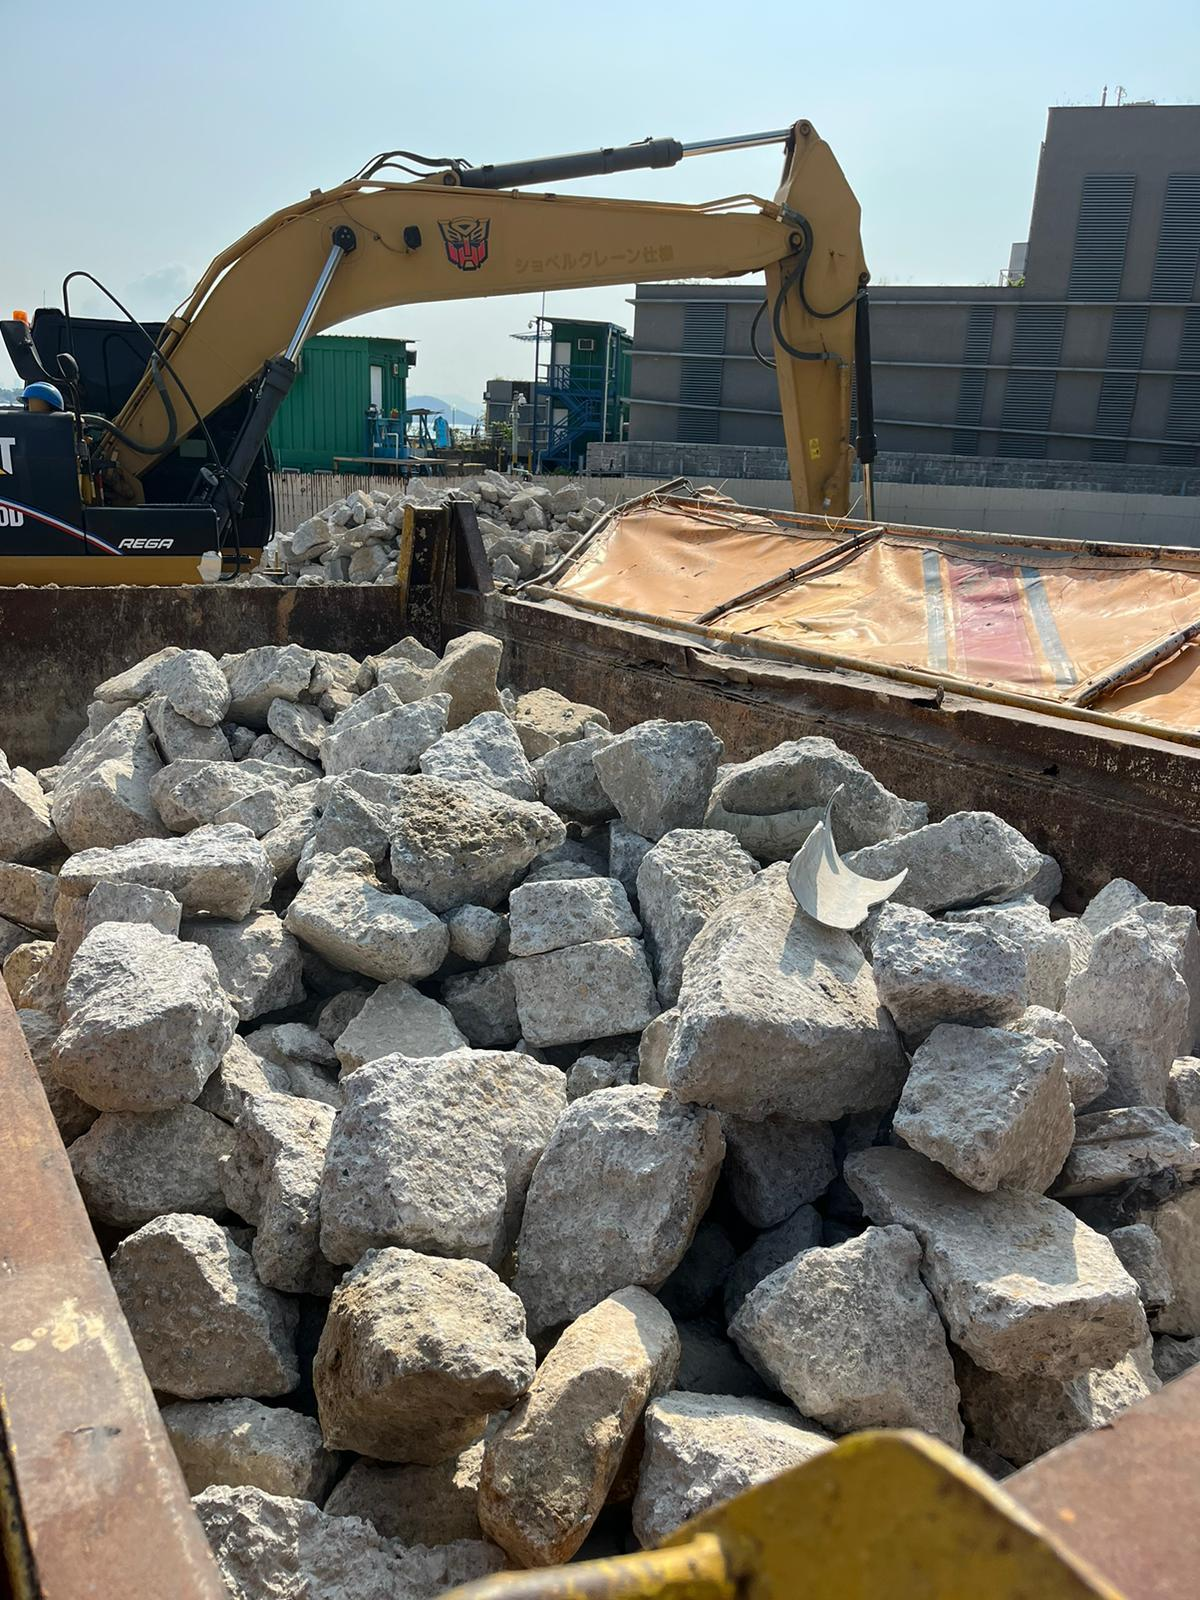dry: (5, 630, 1187, 1577)
